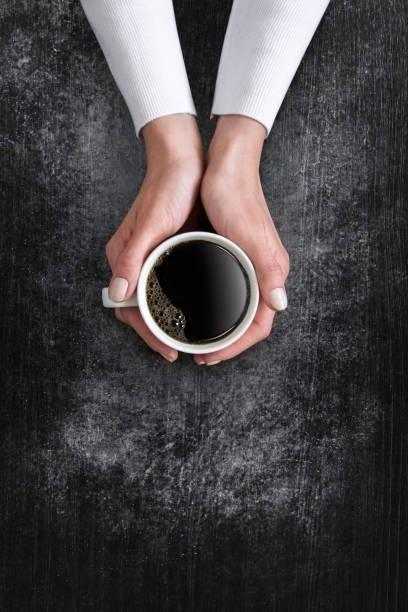cup-handle: (104, 228, 266, 361)
